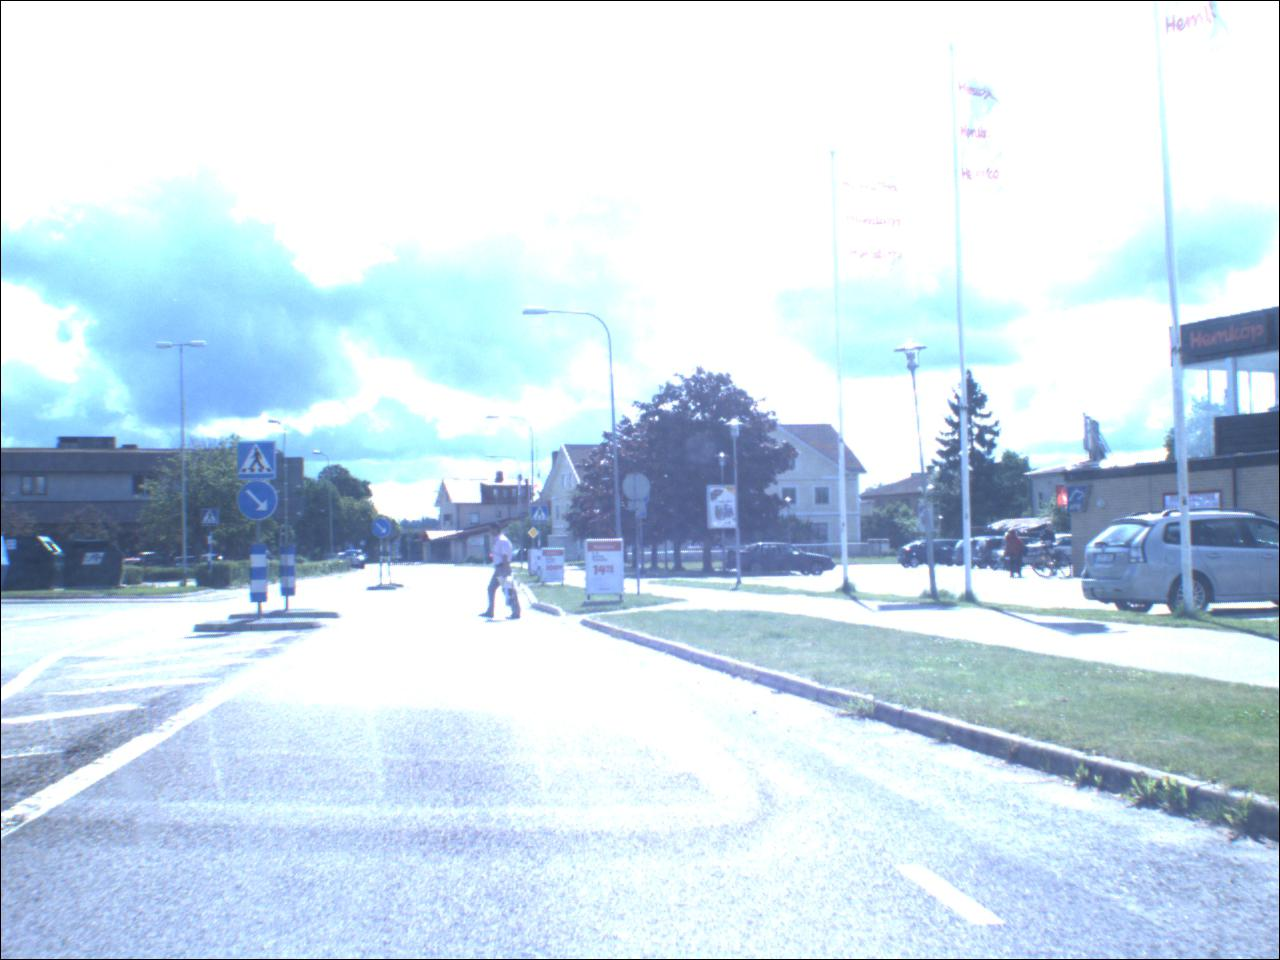PASS_RIGHT_SIDE: (239, 483, 280, 523), (375, 517, 394, 541)
PEDESTRIAN_CROSSING: (239, 444, 278, 483), (203, 510, 222, 530), (532, 507, 552, 526)
PRIORITY_ROAD: (529, 528, 541, 541)
